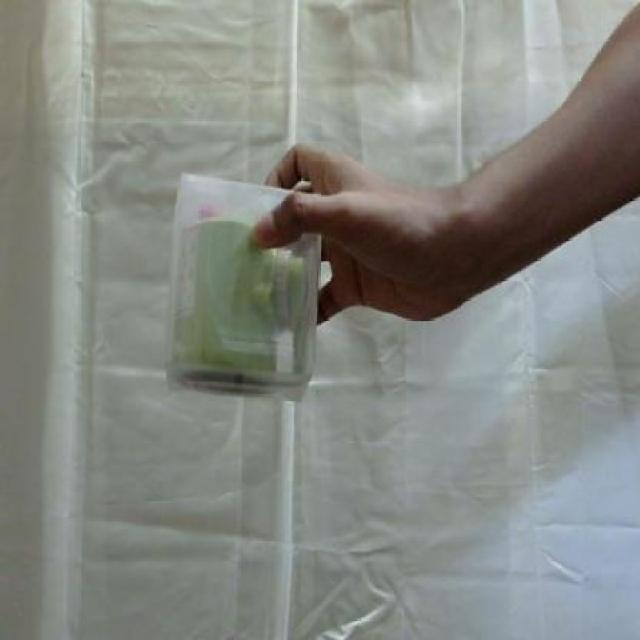Plastic: (163, 165, 327, 411)
